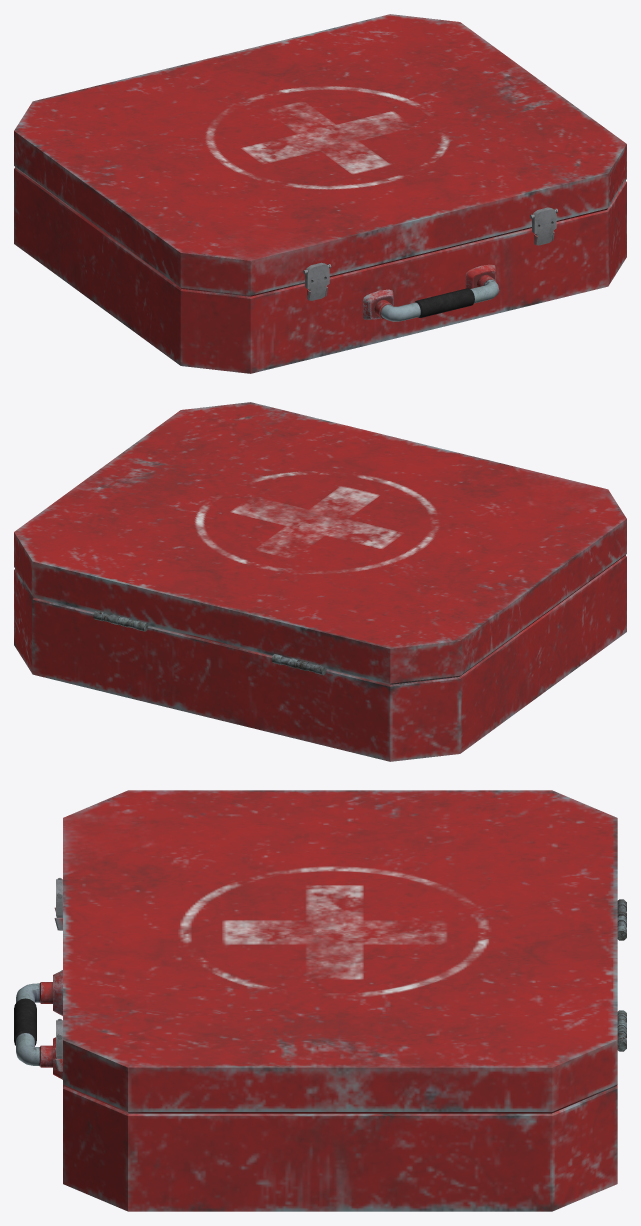
The model's file is First_Aid.fbx.
The picture shows the model from 3 angles, top to bottom: view 1: azimuth 30°, elevation 25°; view 2: azimuth 150°, elevation 25°; view 3: azimuth 270°, elevation 25°; orthographic projection. The views are drawn at different scales.
Parts seen in each view (by area): view 1: Top, Box, Handle, Locks; view 2: Top, Box, Hinge; view 3: Top, Box, Handle, Hinge.
Boxes of the visible parts, x1,y1,x2,y2 form: Top: [14, 14, 626, 296]; Box: [14, 167, 626, 373]; Handle: [363, 264, 499, 321]; Locks: [305, 207, 556, 300]; Top: [14, 402, 626, 684]; Box: [14, 555, 626, 761]; Hinge: [93, 610, 326, 675]; Top: [63, 790, 617, 1113]; Box: [63, 1085, 617, 1211]; Handle: [14, 970, 62, 1079]; Hinge: [617, 899, 626, 1051].
Bounding box in the file's own units: 81.8 × 19.79 × 76.42.
1 material, 1 textured.
